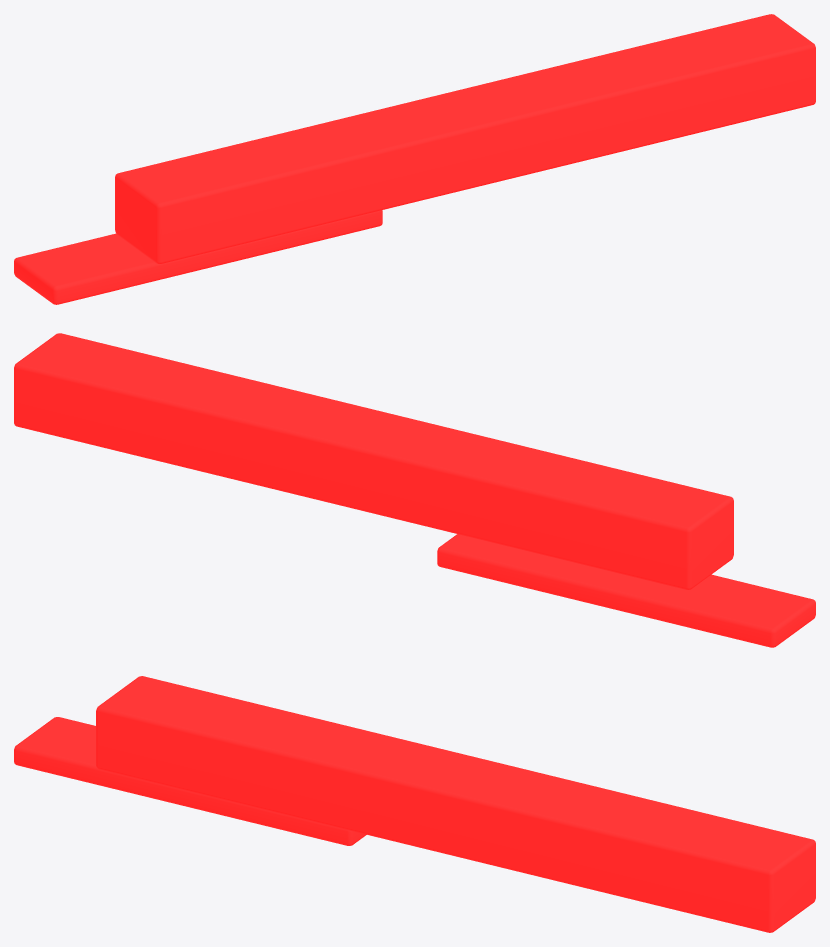
File: tail_lamp_right.glb
The picture shows the model from 3 angles, top to bottom: view 1: azimuth 30°, elevation 25°; view 2: azimuth 150°, elevation 25°; view 3: azimuth 330°, elevation 25°; orthographic projection. The views are drawn at different scales.
Visible parts, largest first — view 1: GEO_Taillight_Right; view 2: GEO_Taillight_Right; view 3: GEO_Taillight_Right.
Boxes of the visible parts, x1,y1,x2,y2 form: GEO_Taillight_Right: [14, 14, 815, 304]; GEO_Taillight_Right: [14, 333, 815, 647]; GEO_Taillight_Right: [14, 676, 815, 932].
Bounding box in the file's own units: 0.41 × 0.046 × 0.051.
